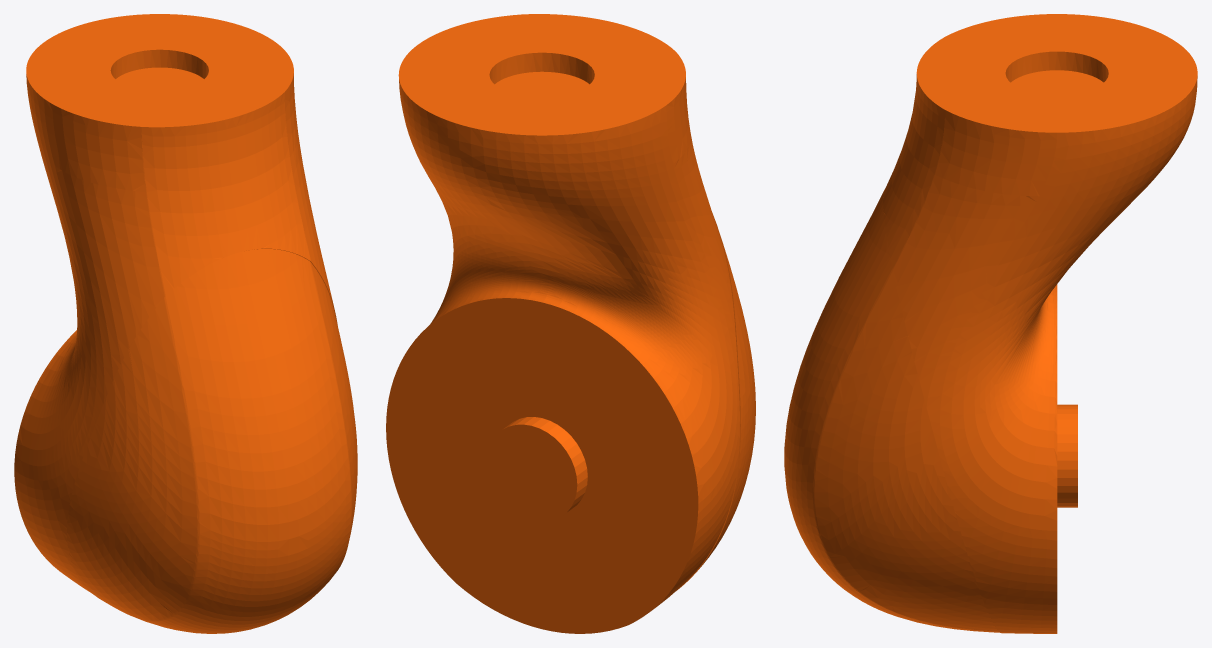
File: iiwa_link_2_visuals_link_2_mesh.obj
3 renders of one model, left to right at view 1: azimuth 30°, elevation 25°; view 2: azimuth 150°, elevation 25°; view 3: azimuth 270°, elevation 25°, orthographic. The views are drawn at different scales.
Size of the model in its own units: 0.171 by 0.29 by 0.2001.
